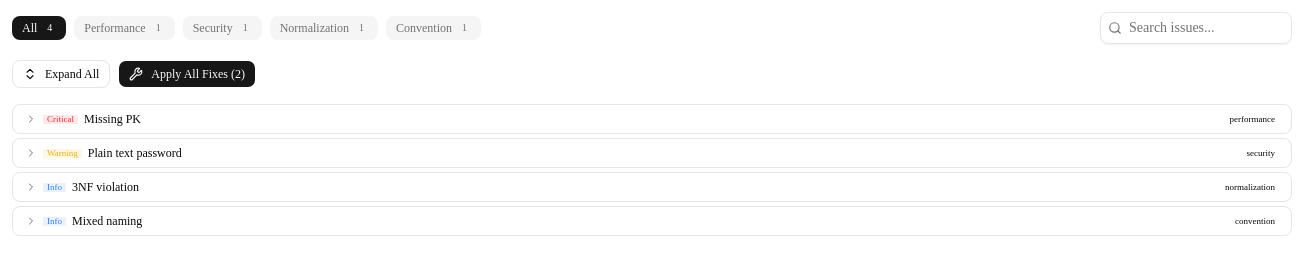
IssuesList › filters by type when button clicked
Click the button "Security 1".
click(222, 28)  # box x1=183 y1=16 x2=262 y2=40
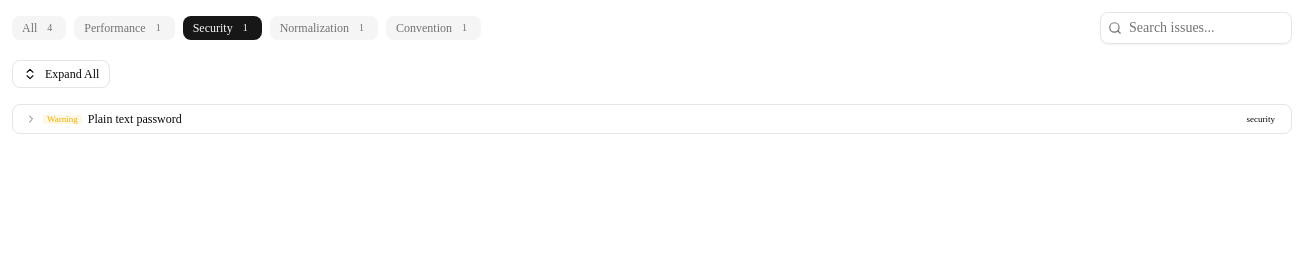
Expected: the text "Plain text password" is shown, x1=88 y1=112 x2=182 y2=126
Result: the button "Missing PK" is gone
